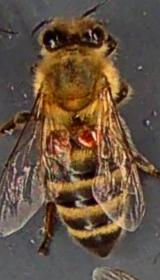varroa_mite: (41, 130, 72, 156), (76, 125, 102, 149)
